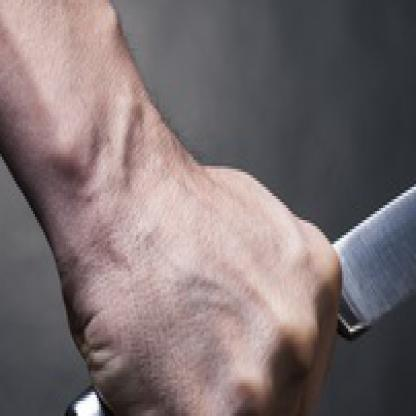knife: (138, 96, 414, 413)
